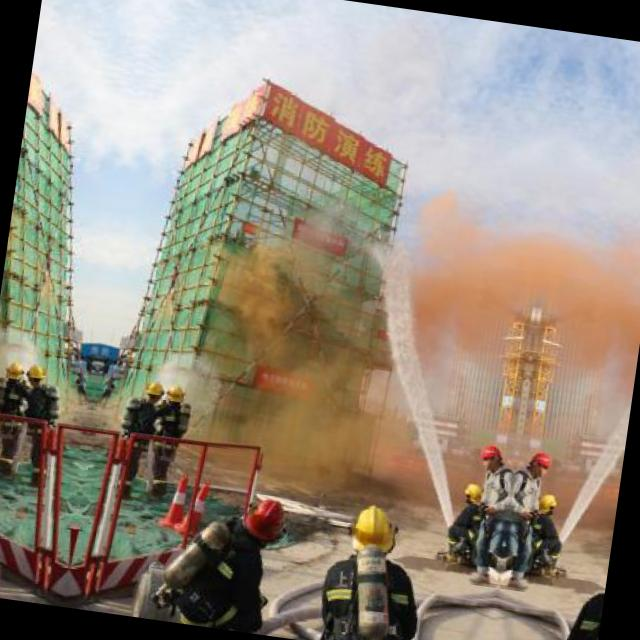helmet: (344, 498, 398, 566), (238, 492, 294, 546), (451, 474, 485, 512), (533, 486, 567, 524), (474, 438, 506, 476), (522, 446, 554, 484), (140, 374, 166, 408), (24, 358, 50, 392), (1, 358, 28, 386), (162, 381, 188, 408)
